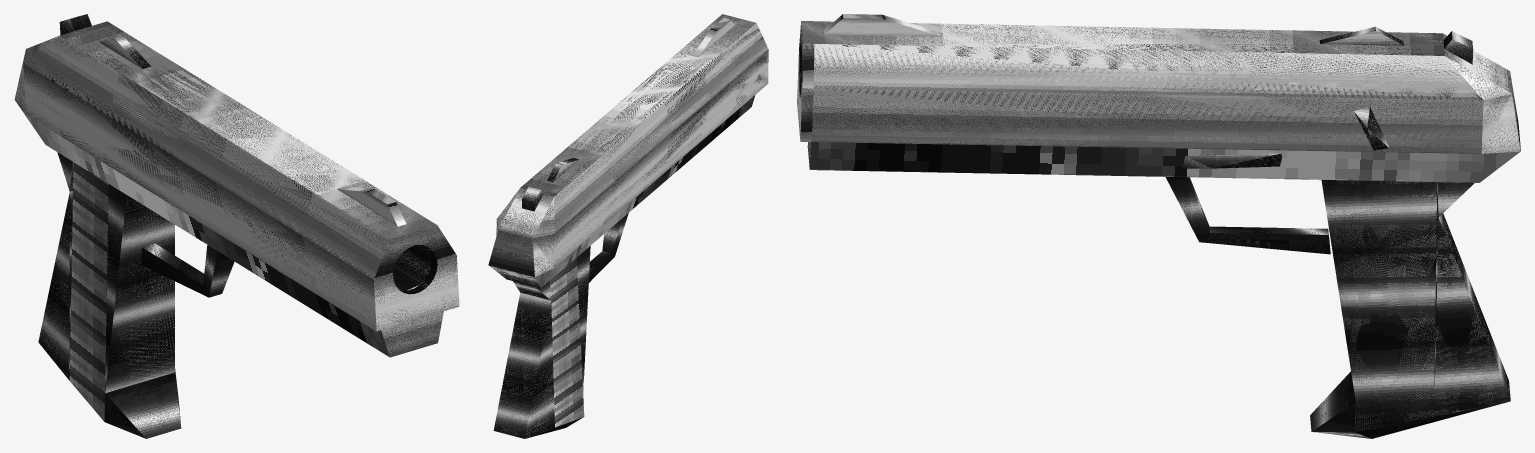
3 views of the same model, side by side, from view 1: azimuth 30°, elevation 25°; view 2: azimuth 150°, elevation 25°; view 3: azimuth 270°, elevation 25° (orthographic). The views are drawn at different scales.
Parts seen in each view (by area): view 1: SketchUp, SketchUp.014, SketchUp.013, SketchUp.007, SketchUp.008, SketchUp.011, SketchUp.009, SketchUp.010, SketchUp.001, SketchUp.003, SketchUp.002; view 2: SketchUp, SketchUp.011, SketchUp.013, SketchUp.007, SketchUp.014, SketchUp.009, SketchUp.001, SketchUp.002, SketchUp.003; view 3: SketchUp, SketchUp.012, SketchUp.007, SketchUp.011, SketchUp.014, SketchUp.009, SketchUp.008, SketchUp.001, SketchUp.006, SketchUp.003, SketchUp.004.
Part boxes in pixels (x1,y1,x2,y2): SketchUp: (14,21,459,357); SketchUp.014: (105,184,174,392); SketchUp.013: (69,162,108,421); SketchUp.007: (15,101,415,357); SketchUp.008: (69,333,181,438); SketchUp.011: (38,152,108,380); SketchUp.009: (141,243,234,297); SketchUp.010: (393,245,431,290); SketchUp.001: (337,186,406,226); SketchUp.003: (100,35,150,68); SketchUp.002: (59,14,91,35); SketchUp: (488,14,768,277); SketchUp.011: (493,281,554,438); SketchUp.013: (550,258,584,427); SketchUp.007: (488,95,755,288); SketchUp.014: (576,246,590,391); SketchUp.009: (588,213,628,282); SketchUp.001: (692,17,735,57); SketchUp.002: (522,186,543,211); SketchUp.003: (547,158,579,182); SketchUp: (797,21,1520,167); SketchUp.012: (1354,180,1437,432); SketchUp.007: (809,122,1520,182); SketchUp.011: (1434,182,1510,415); SketchUp.014: (1321,180,1360,399); SketchUp.009: (1165,177,1330,254); SketchUp.008: (1310,371,1508,438); SketchUp.001: (824,14,942,36); SketchUp.006: (1182,153,1281,168); SketchUp.003: (1319,26,1404,45); SketchUp.004: (1354,106,1388,150).
Bounding box in the file's own units: 0.0348 × 0.1281 × 0.2023.
12 materials, 12 textured.
